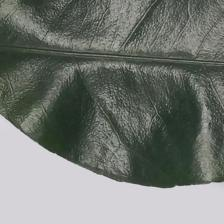healthy: (1, 2, 223, 159)
